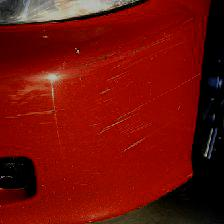bumper_scratch: (22, 42, 184, 168)
